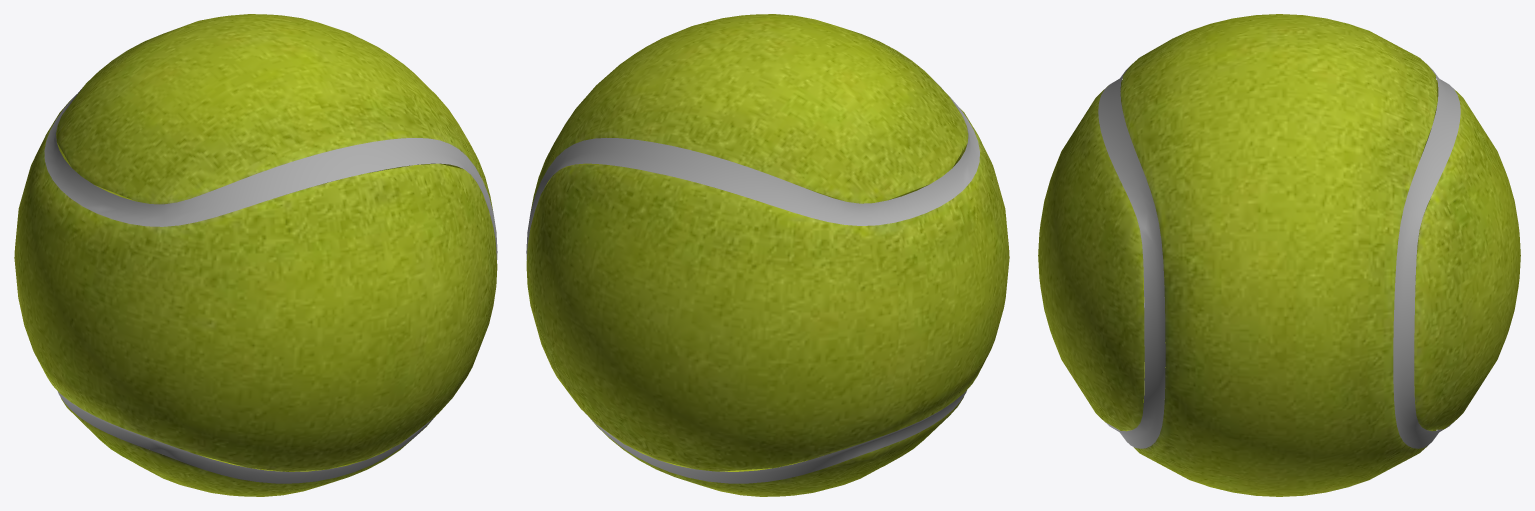
The model's file is Tennis2-optimized.glb.
3 renders of one model, left to right at view 1: azimuth 30°, elevation 25°; view 2: azimuth 150°, elevation 25°; view 3: azimuth 270°, elevation 25°, orthographic.
Visible parts, largest first — view 1: Tennis; view 2: Tennis; view 3: Tennis.
Boxes of the visible parts, x1,y1,x2,y2 form: Tennis: (14, 14, 497, 496); Tennis: (526, 14, 1009, 496); Tennis: (1038, 14, 1520, 496).
Size of the model in its own units: 1.98 by 1.98 by 1.98.
2 materials, 1 textured.
